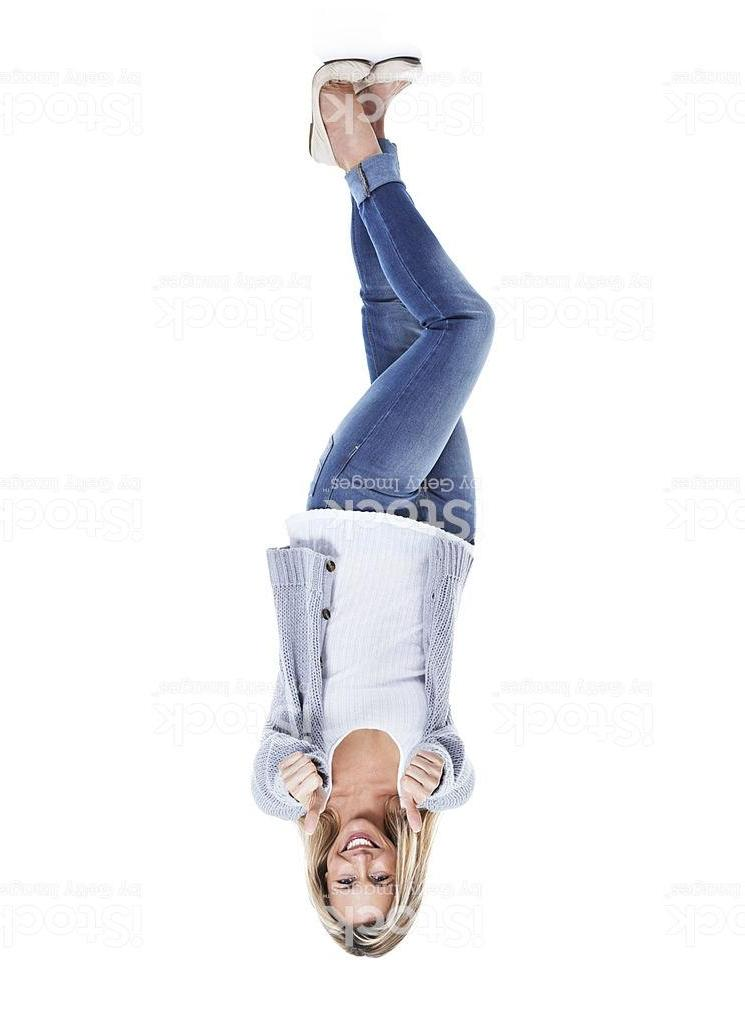thumbsdown: (278, 752, 328, 836), (399, 748, 446, 833)
